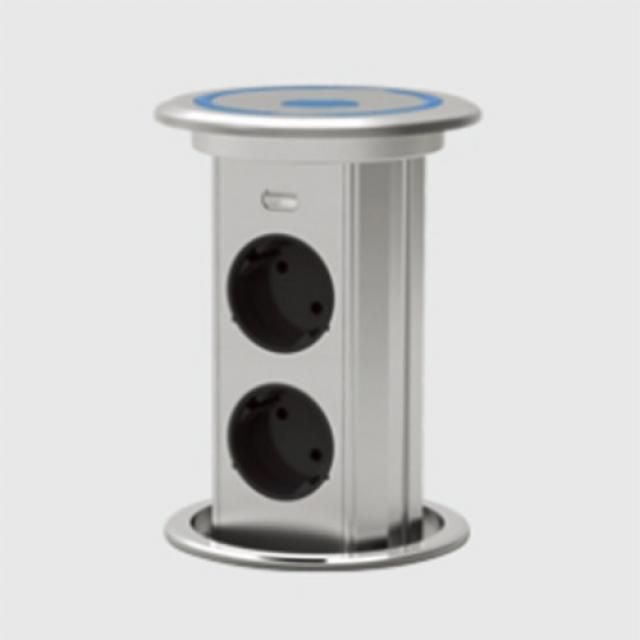typeb: (134, 62, 525, 637)
